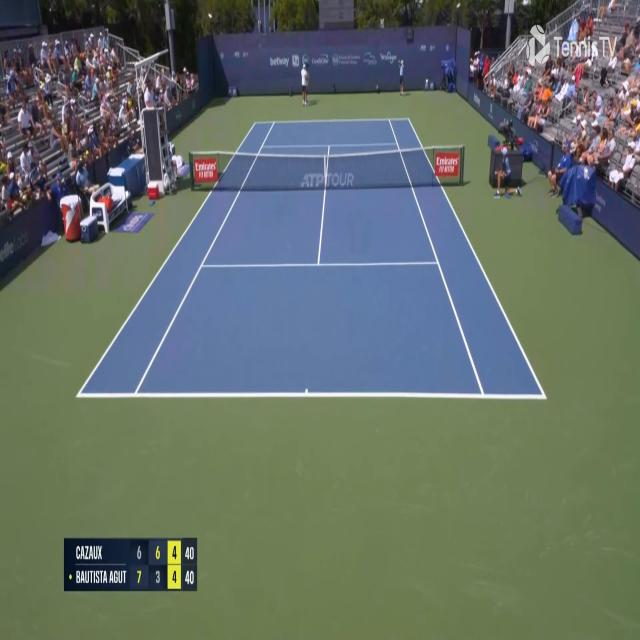tennis-player: (300, 61, 310, 108)
